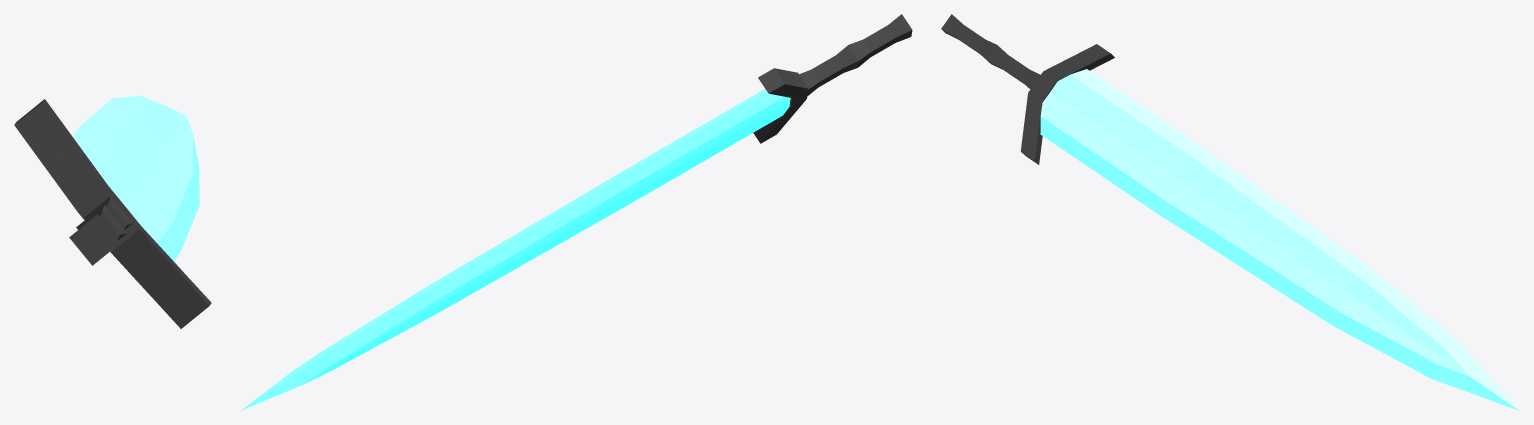
The model's file is bigsword.fbx.
3 renders of one model, left to right at view 1: azimuth 30°, elevation 25°; view 2: azimuth 150°, elevation 25°; view 3: azimuth 270°, elevation 25°, orthographic. The views are drawn at different scales.
Parts seen in each view (by area): view 1: Cube.008; view 2: Cube.008; view 3: Cube.008.
Boxes of the visible parts, bbox=[...] form: Cube.008: bbox=[14, 95, 211, 328]; Cube.008: bbox=[241, 14, 912, 410]; Cube.008: bbox=[941, 14, 1519, 410].
Size of the model in its own units: 265 by 178 by 392.
